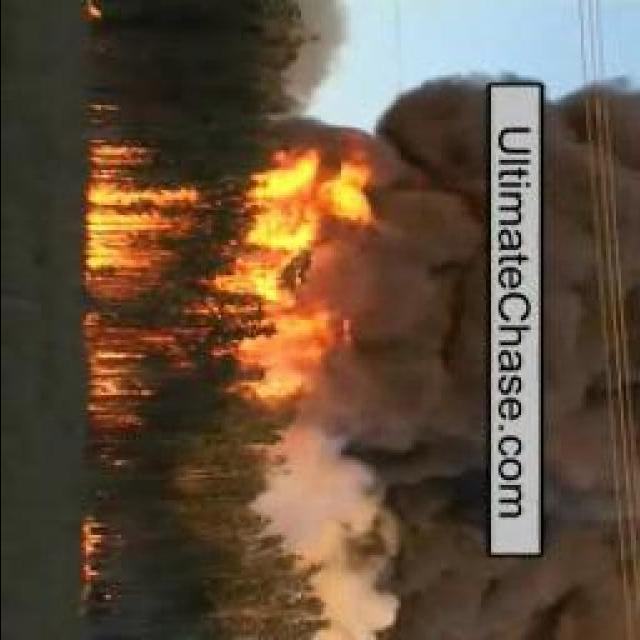Fire: (85, 138, 369, 436), (81, 500, 107, 594)
